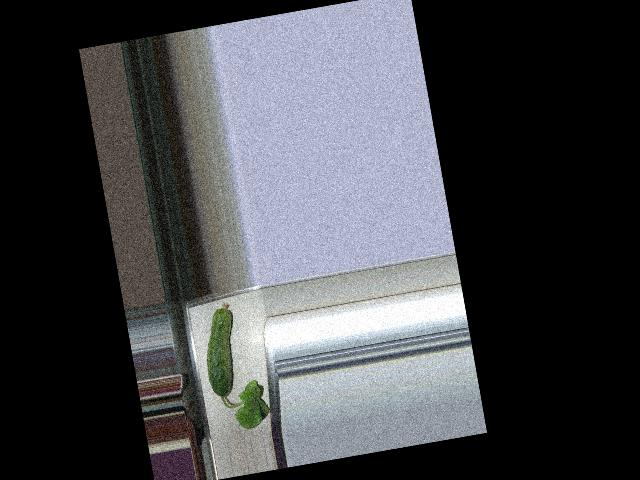cucumber: (196, 302, 245, 399)
